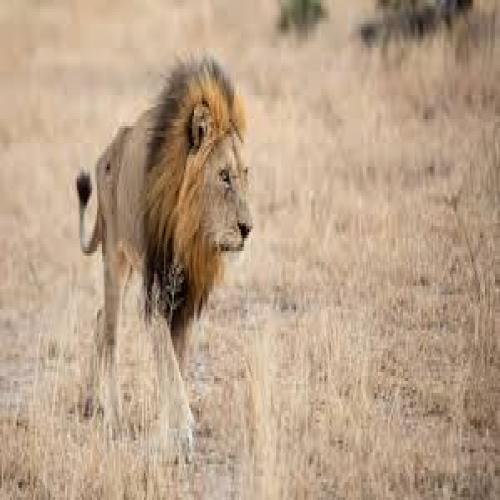lion-endangered: (86, 65, 253, 451)
